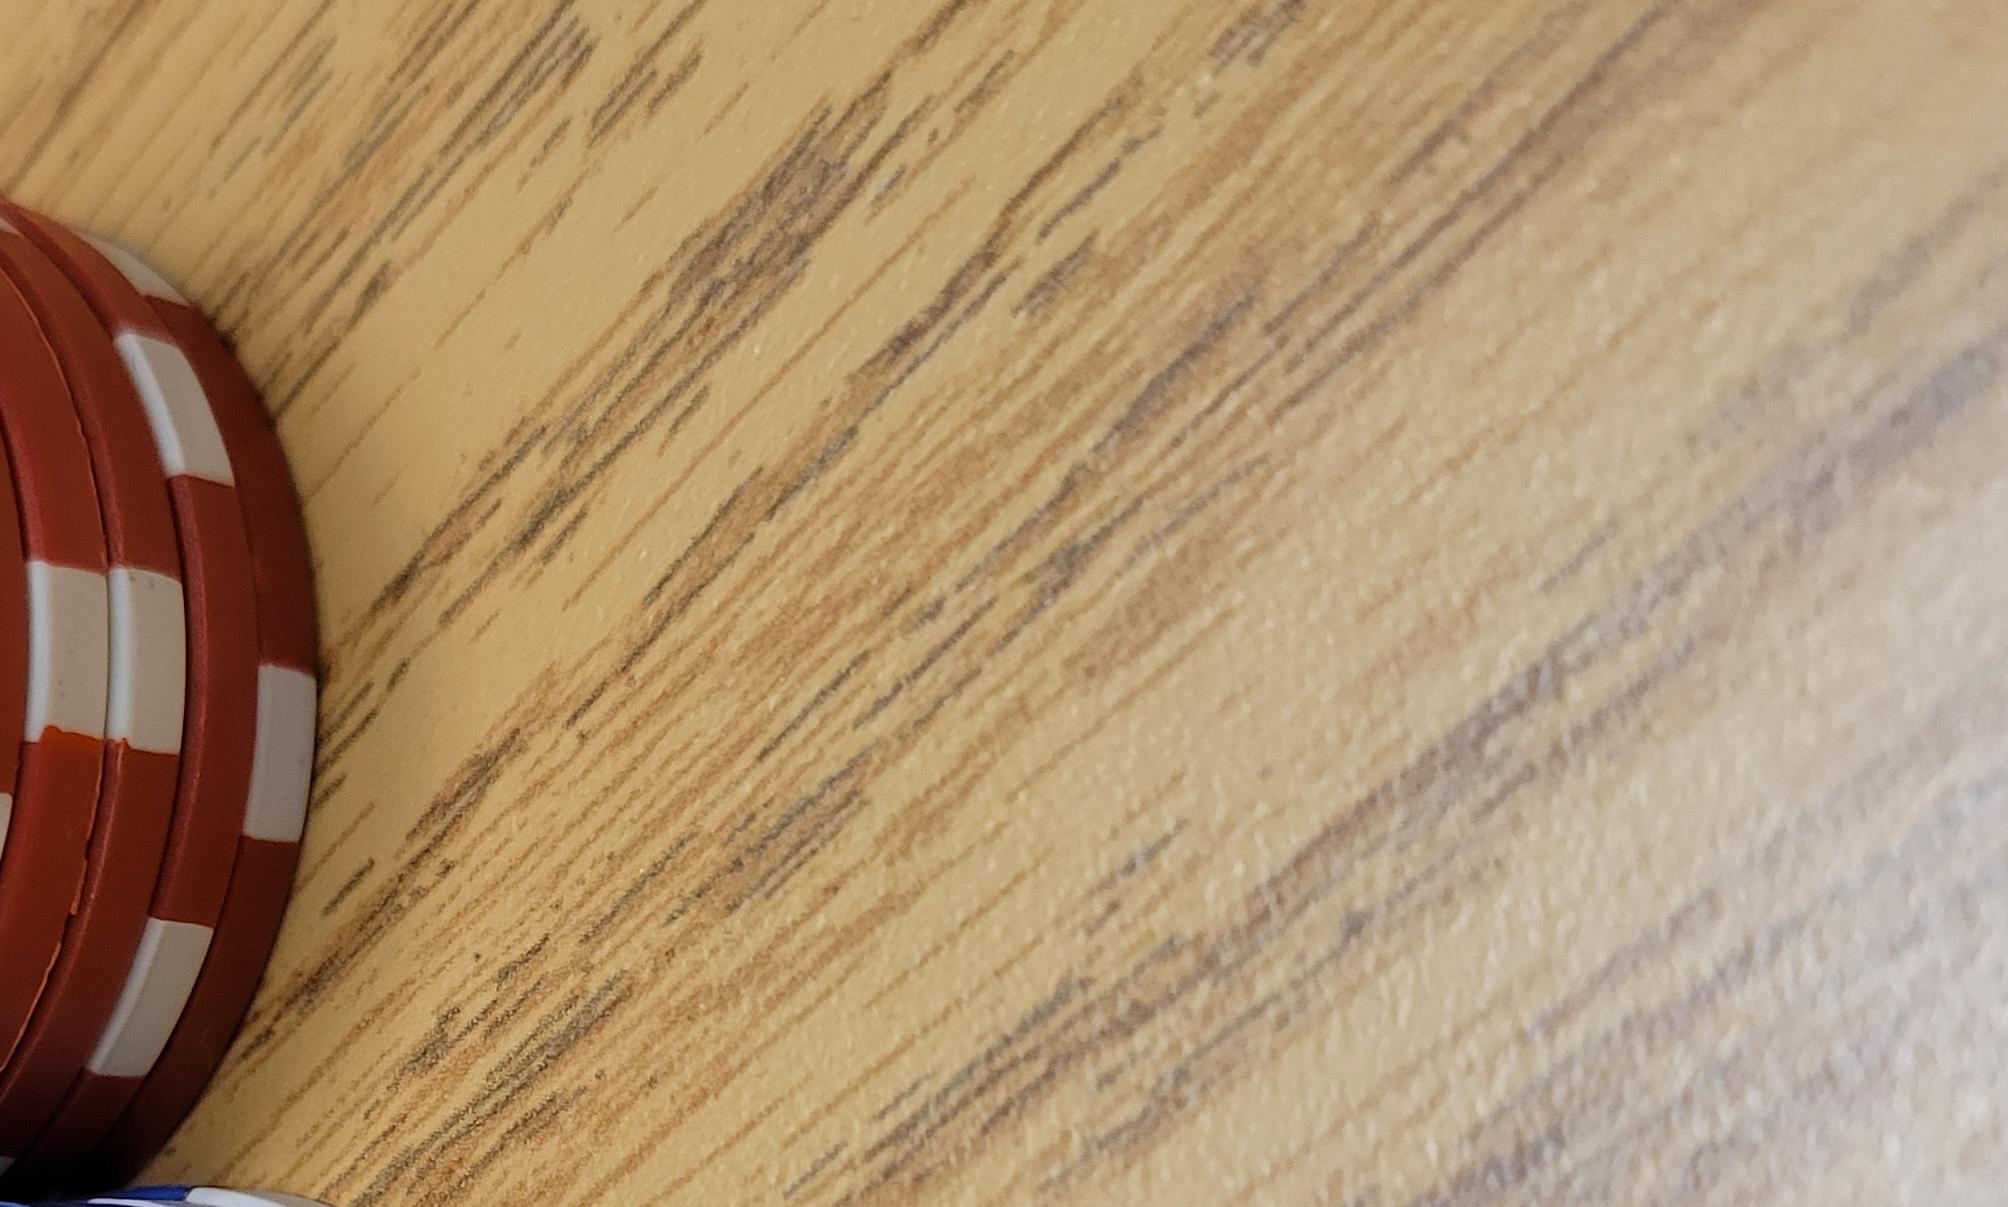Chip: (1, 120, 1081, 1207)
